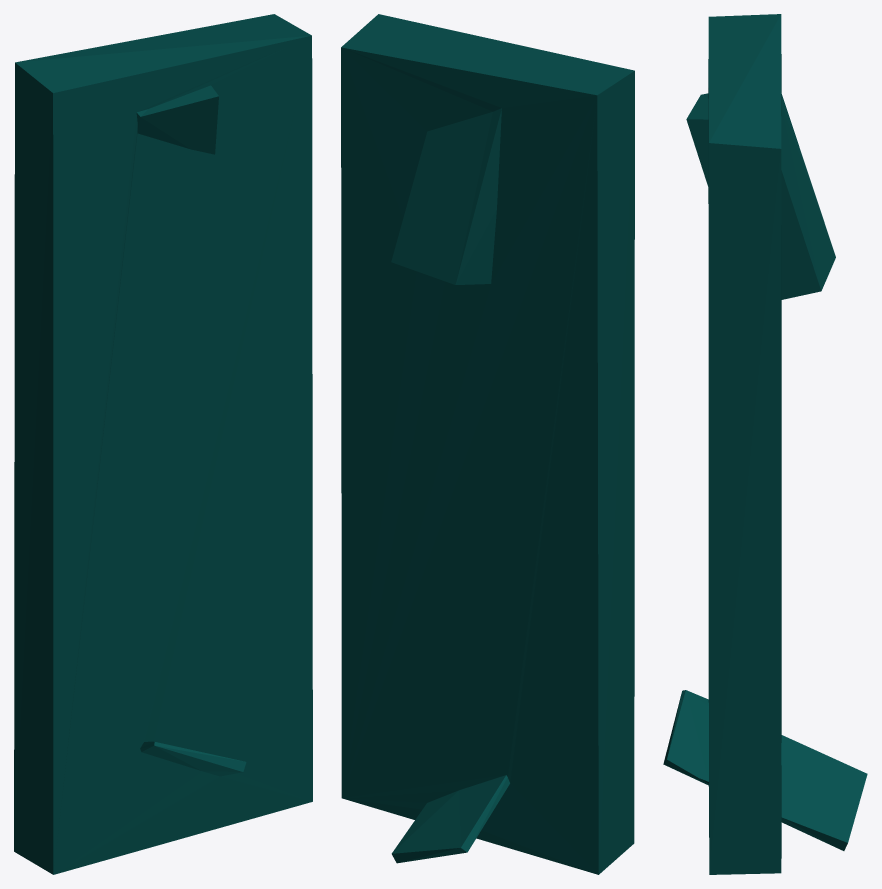
3 views of the same model, side by side, from view 1: azimuth 30°, elevation 25°; view 2: azimuth 150°, elevation 25°; view 3: azimuth 270°, elevation 25° (orthographic). The views are drawn at different scales.
Parts seen in each view (by area): view 1: 124_Cube.514; view 2: 124_Cube.514; view 3: 124_Cube.514.
Boxes of the visible parts, bbox=[...] form: 124_Cube.514: bbox=[14, 14, 312, 874]; 124_Cube.514: bbox=[341, 14, 634, 874]; 124_Cube.514: bbox=[663, 14, 867, 874].
Bounding box in the file's own units: 4.24 × 12.32 × 3.01.
